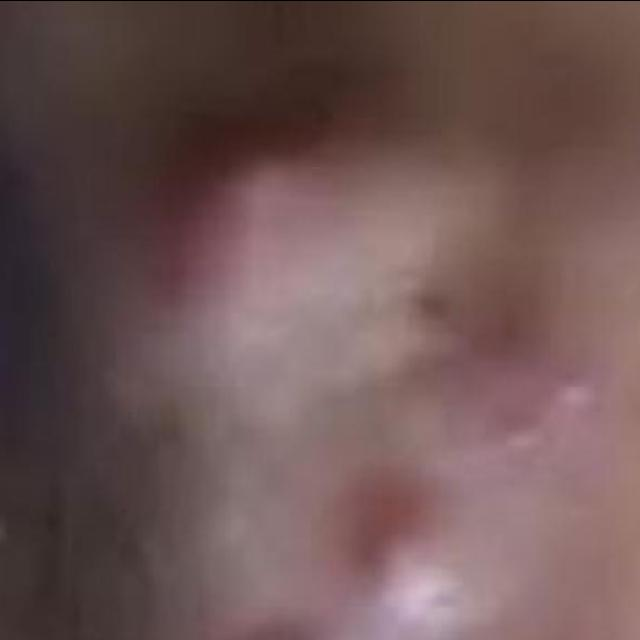nodule: (132, 18, 558, 640)
